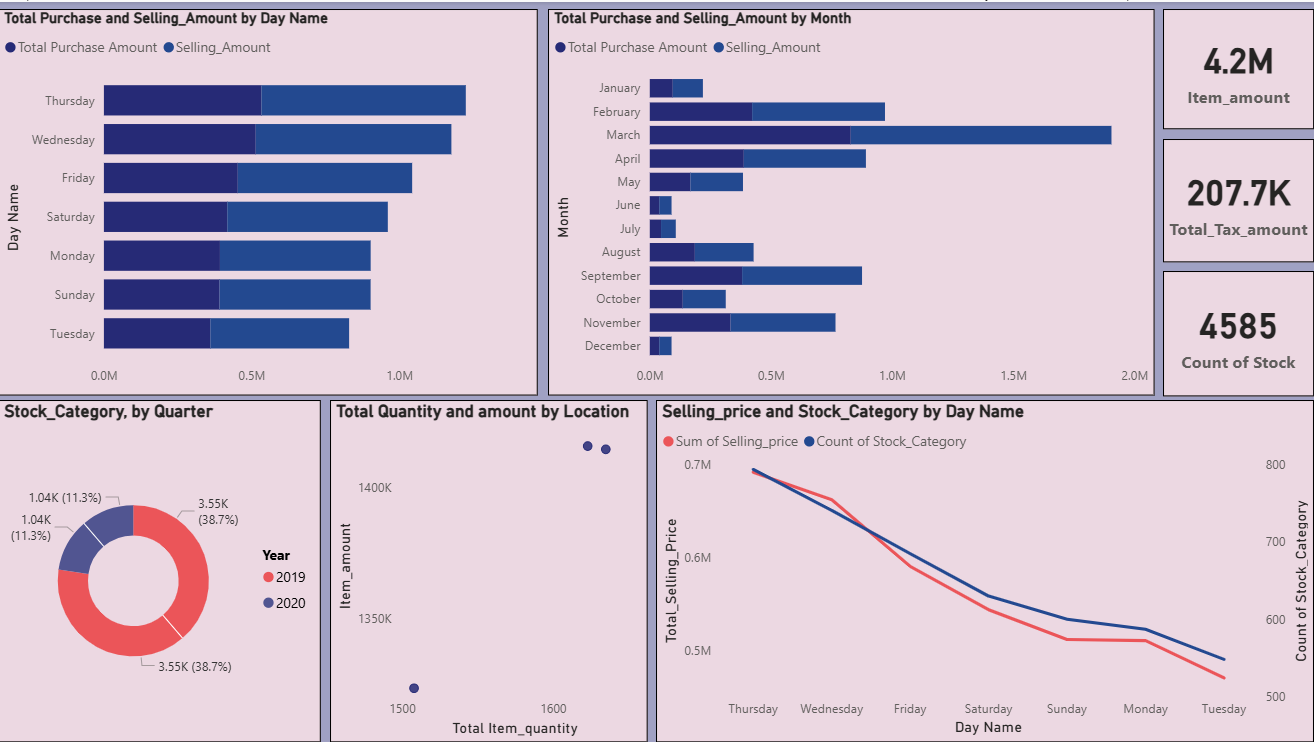

What the dashboard file says about the page in this screenshot:
{"tool":"powerbi","page":{"name":"Page 1","canvas":[1280,720],"ordinal":0},"visuals":[{"type":"barChart","title":"Total Purchase and Selling_Amount by Day Name","fields":{"Category":["Data.Day Name"],"Y":["Sum(Data.Purchase_Cost)","Sum(Data.Selling_price)"]},"box":[0,6.8,525.2,376.4],"z":0},{"type":"barChart","title":"Total Purchase  and Selling_Amount by Month","fields":{"Y":["Sum(Data.Purchase_Cost)","Sum(Data.Selling_price)"],"Category":["Data.Date.Variation.Date Hierarchy.Month"]},"box":[535,6.8,590.4,376.4],"z":1000},{"type":"donutChart","title":"Stock_Category, by Quarter","fields":{"Category":["Data.Year"],"Y":["CountNonNull(Data.Stock_Category)","CountNonNull(Data.Stock)"]},"box":[0,387.1,314.2,332.6],"z":2000},{"type":"scatterChart","title":"Total Quantity and amount by Location","fields":{"Category":["Data.Location"],"X":["Sum(Data.Item_quantity)"],"Y":["Sum(Data.Item_amount)"]},"box":[322.9,387.1,309.3,332.6],"z":3000},{"type":"card","fields":{"Values":["Sum(Data.Tax_amount)"]},"box":[1133.1,133.3,146.9,119.6],"z":4000},{"type":"card","fields":{"Values":["Sum(Data.Item_amount)"]},"box":[1133.1,6.8,146.9,116.7],"z":5000},{"type":"card","fields":{"Values":["CountNonNull(Data.Stock)"]},"box":[1133.1,261.6,146.9,121.6],"z":6000},{"type":"lineChart","title":"Selling_price and Stock_Category by Day Name","fields":{"Y":["Sum(Data.Selling_price)"],"Y2":["CountNonNull(Data.Stock_Category)"],"Category":["Data.Day Name"]},"box":[640,387.1,640,332.6],"z":7000}]}

Visuals, with their boxes in screenshot pixels (x1, y1, x2, y2), scaled from the page's 1280x720 canvas onto the 1314x742 screenshot:
"Total Purchase and Selling_Amount by Day Name" barChart: crop(0, 7, 539, 395)
"Total Purchase  and Selling_Amount by Month" barChart: crop(549, 7, 1155, 395)
"Stock_Category, by Quarter" donutChart: crop(0, 399, 323, 741)
"Total Quantity and amount by Location" scatterChart: crop(331, 399, 649, 741)
card - Sum(Data.Tax_amount): crop(1163, 137, 1313, 261)
card - Sum(Data.Item_amount): crop(1163, 7, 1313, 127)
card - CountNonNull(Data.Stock): crop(1163, 270, 1313, 395)
"Selling_price and Stock_Category by Day Name" lineChart: crop(657, 399, 1313, 741)
